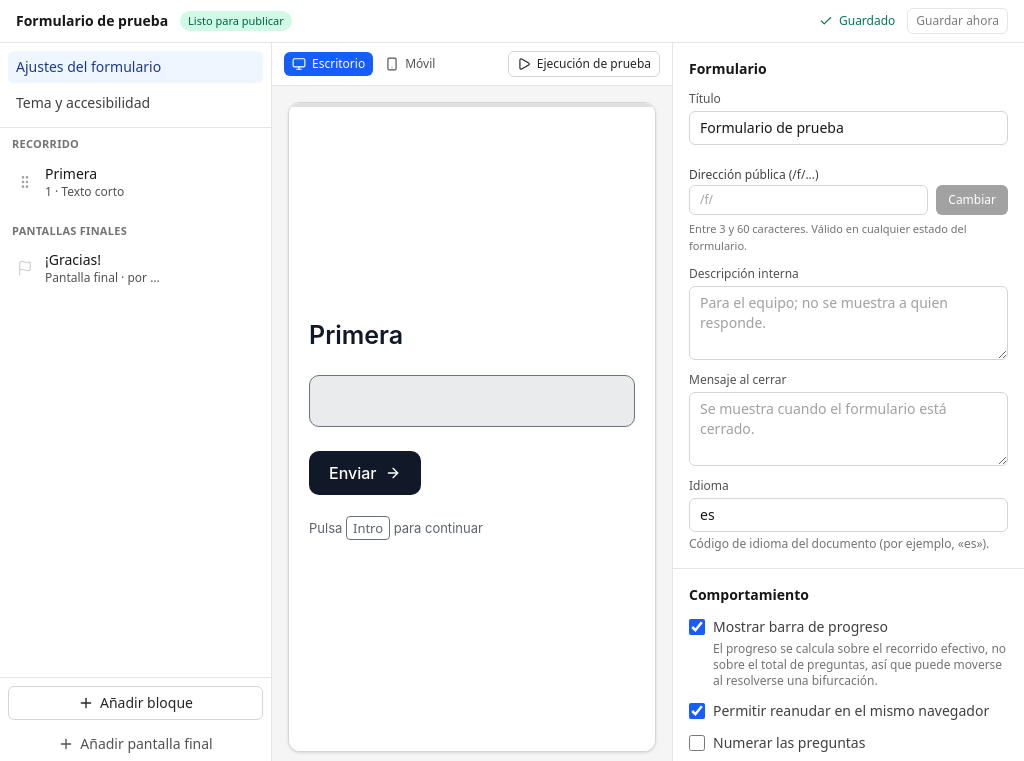
construir un formulario › las pantallas finales se editan como cualquier otra pantalla
Step 1. Click the button "¡Gracias! Pantalla final · por defecto" → point(102, 268), box [41,248,164,288]
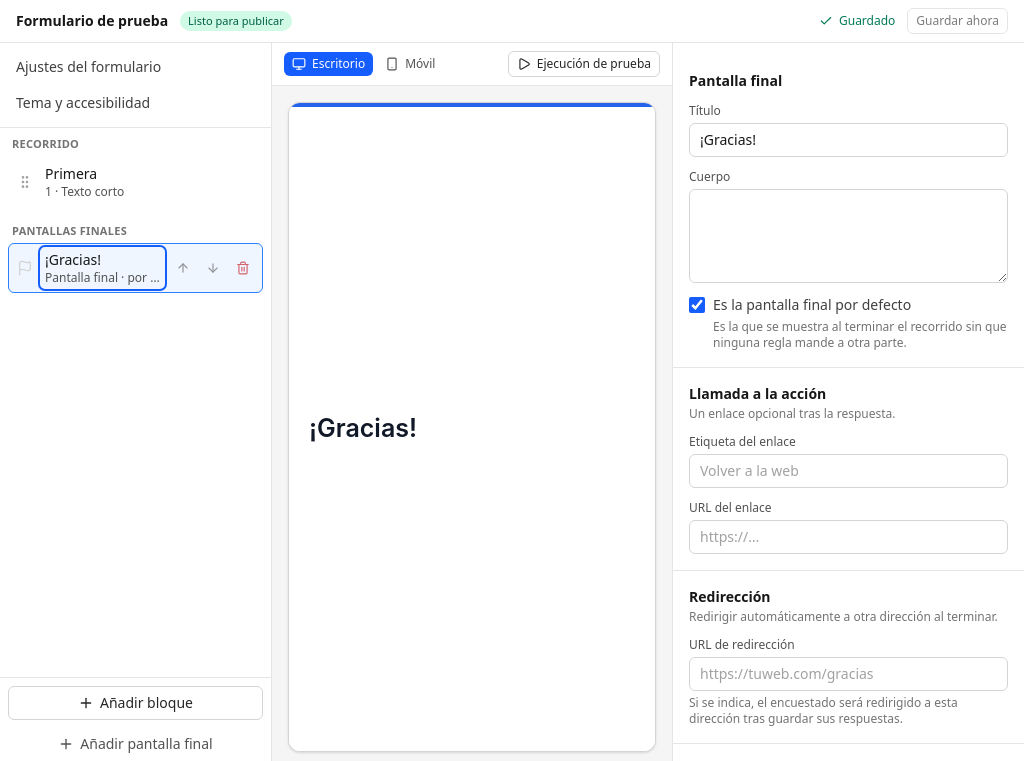
Step 2. Replace the text in the field labelled "Título" with "Hasta pronto" → point(848, 140), box [689,123,1008,157]
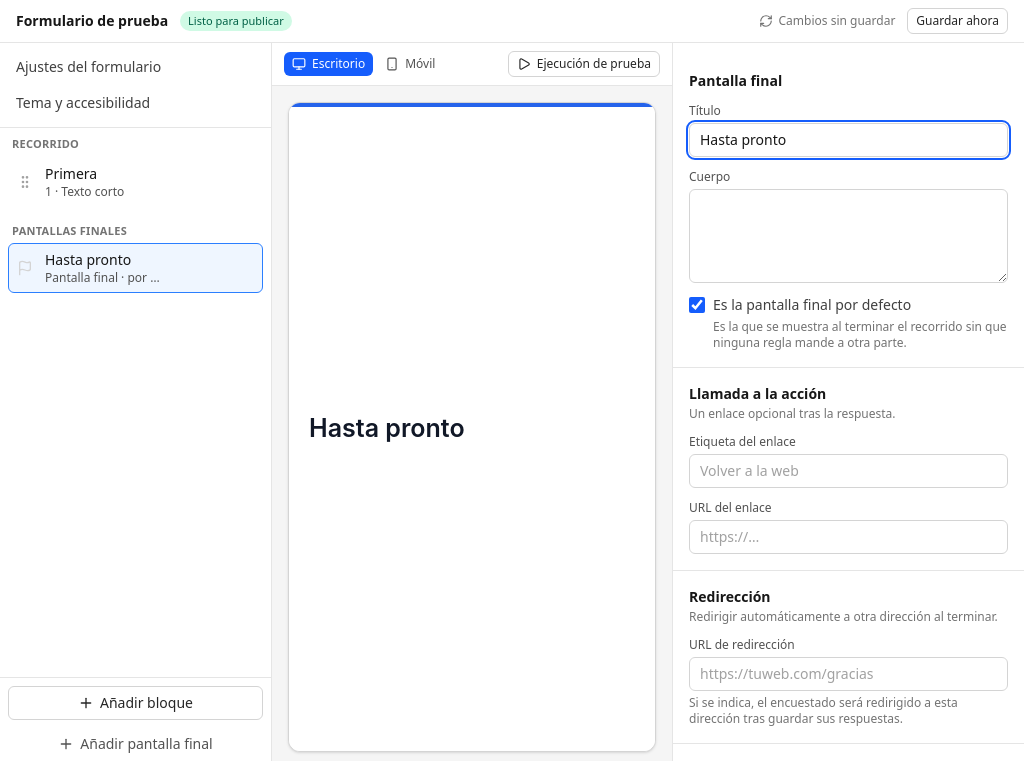
Now the text "Hasta pronto" is shown, box [45,250,131,270]
